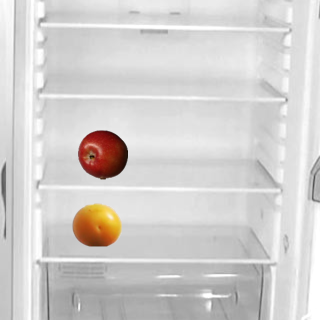Apple Braeburn: (77, 129, 127, 179)
Cherry Wax Yellow: (71, 199, 121, 249)
